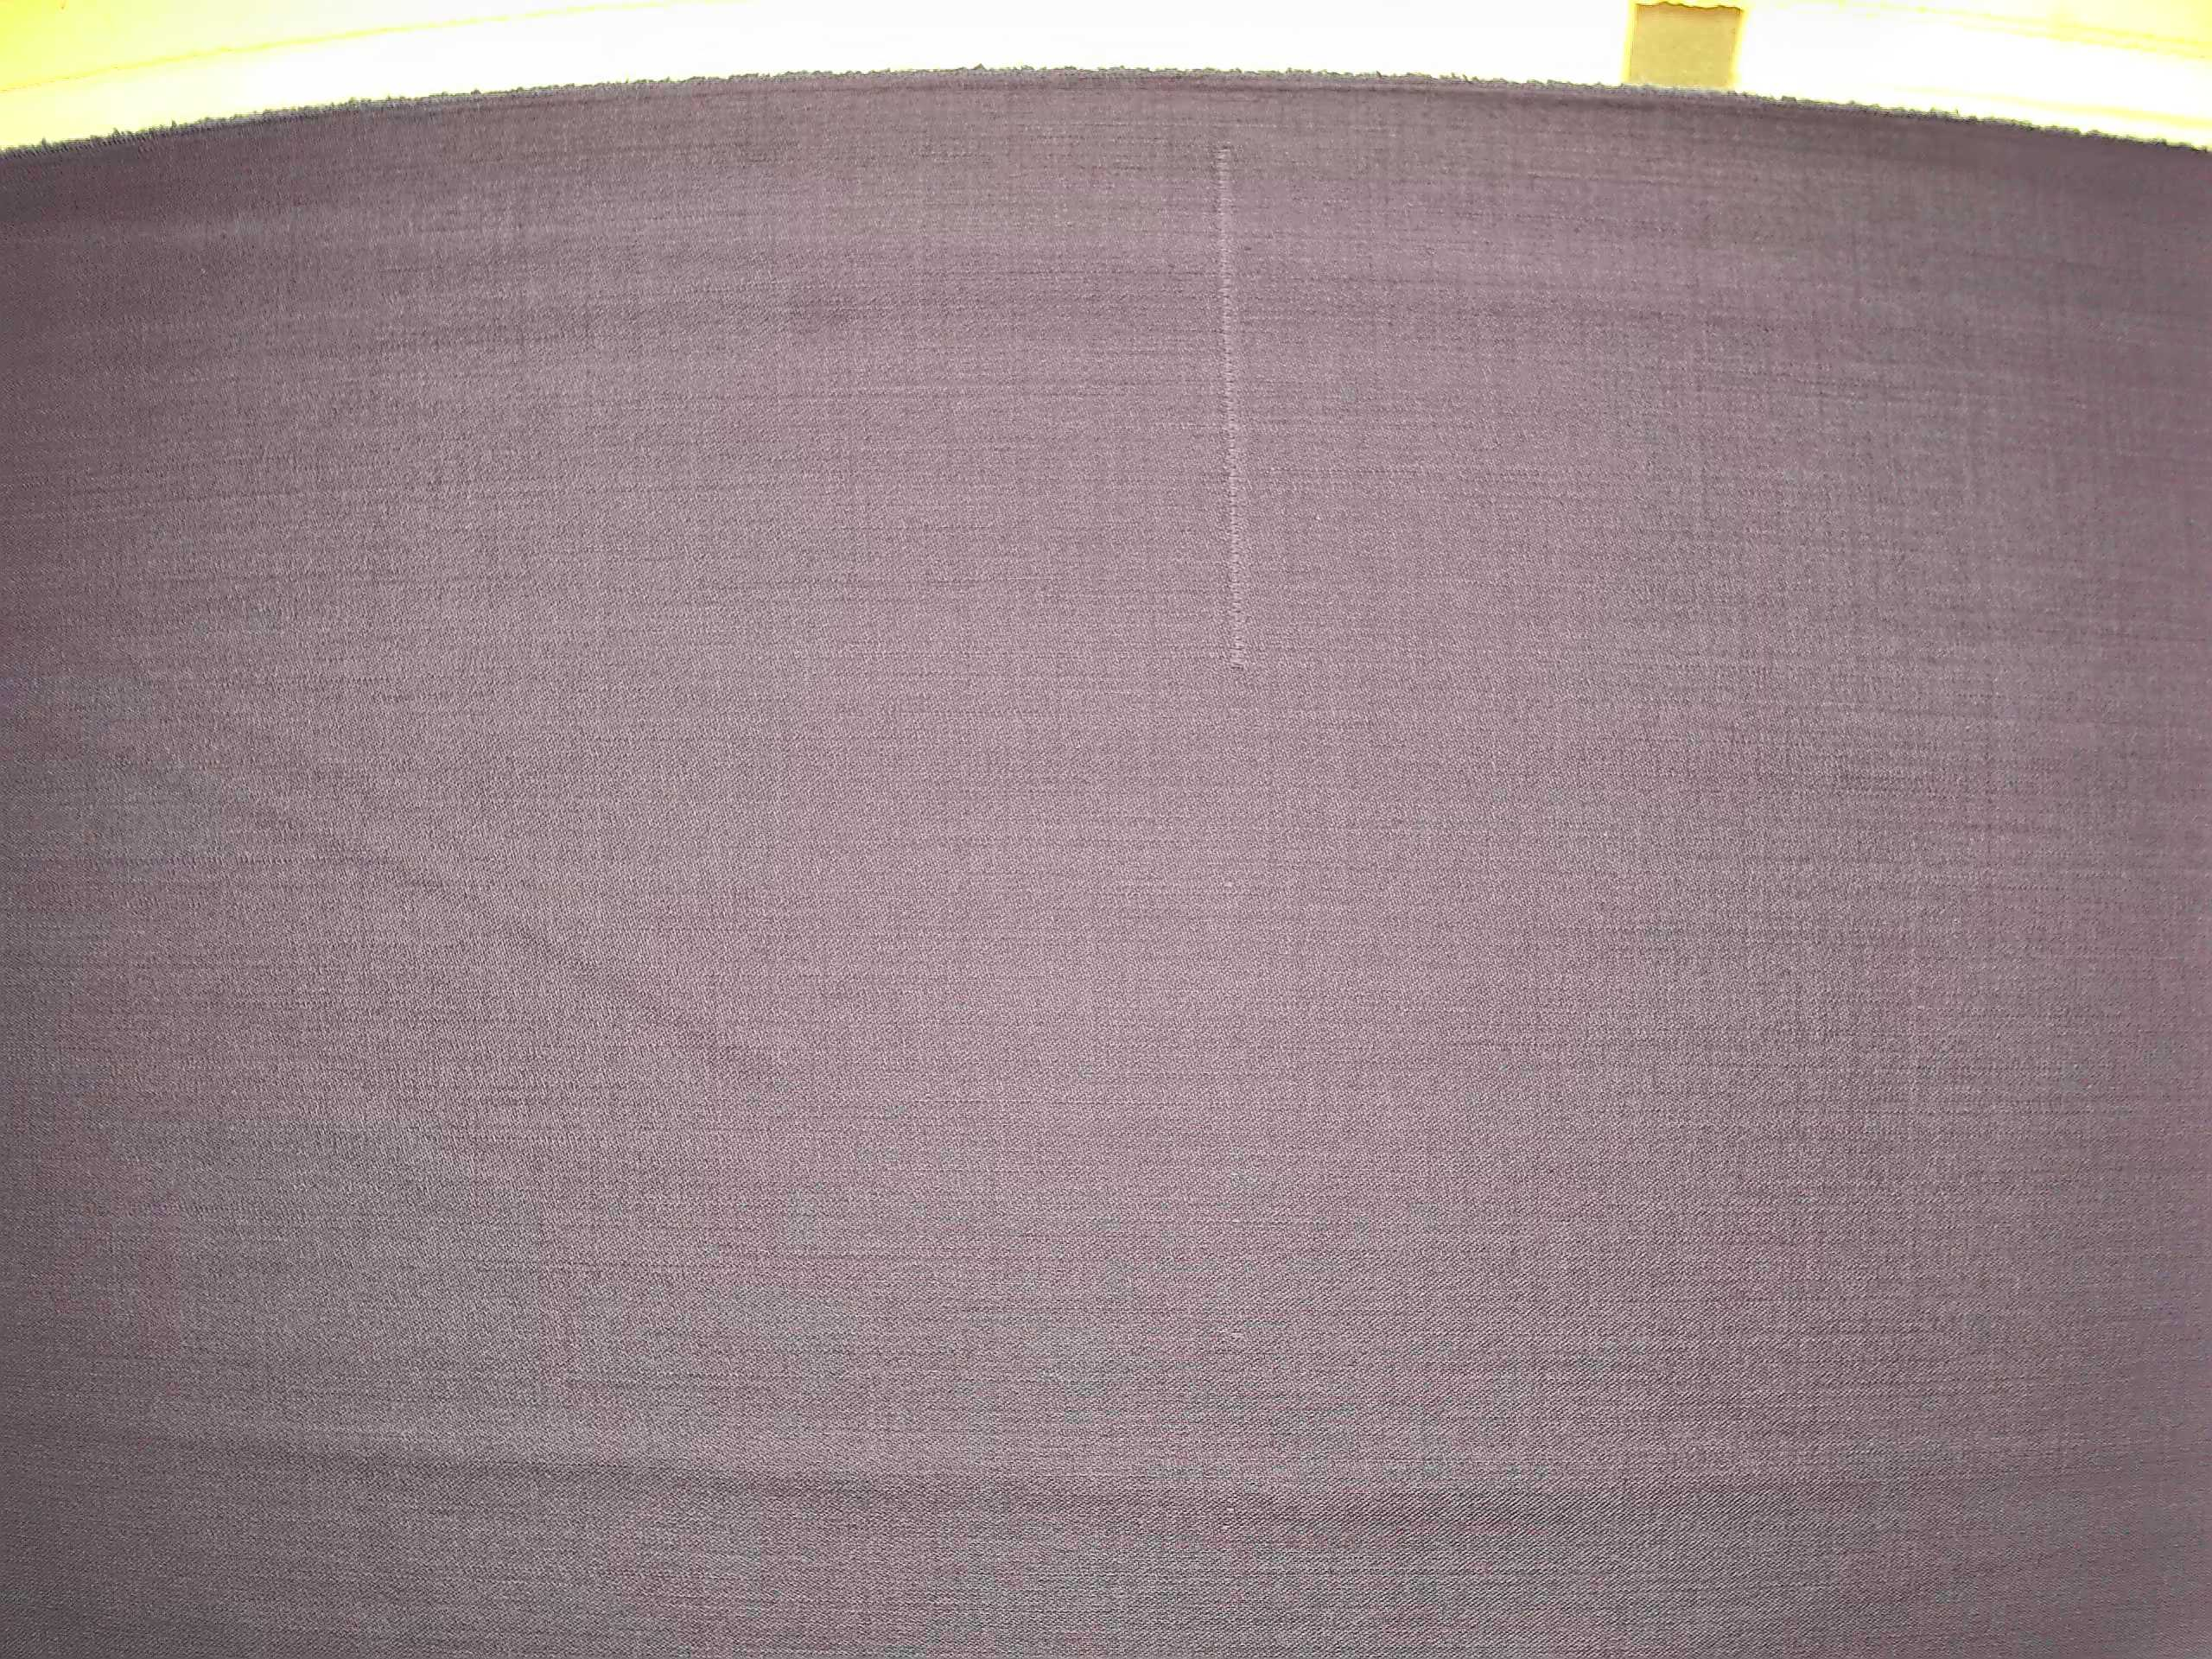jumps: (1193, 134, 1280, 695)
